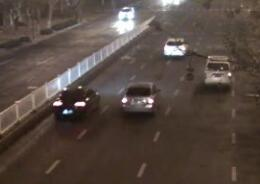car: (49, 82, 103, 121), (119, 80, 161, 115), (200, 53, 235, 88), (162, 34, 189, 57), (117, 6, 135, 20)
